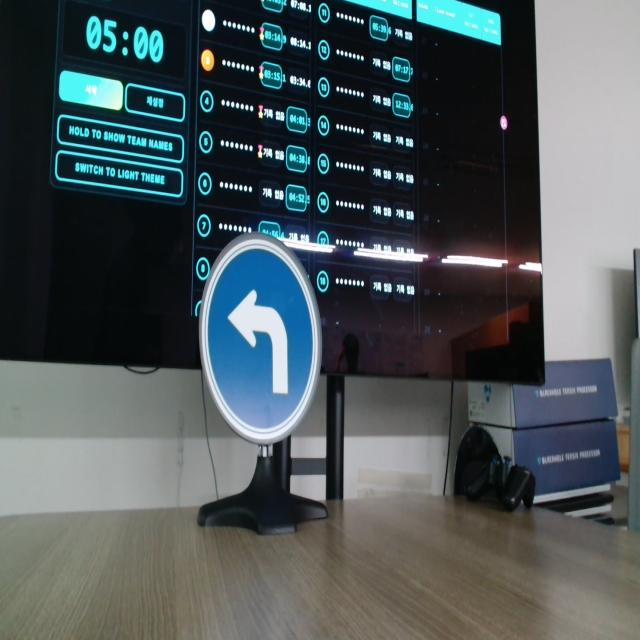left_direction: (200, 227, 327, 450)
